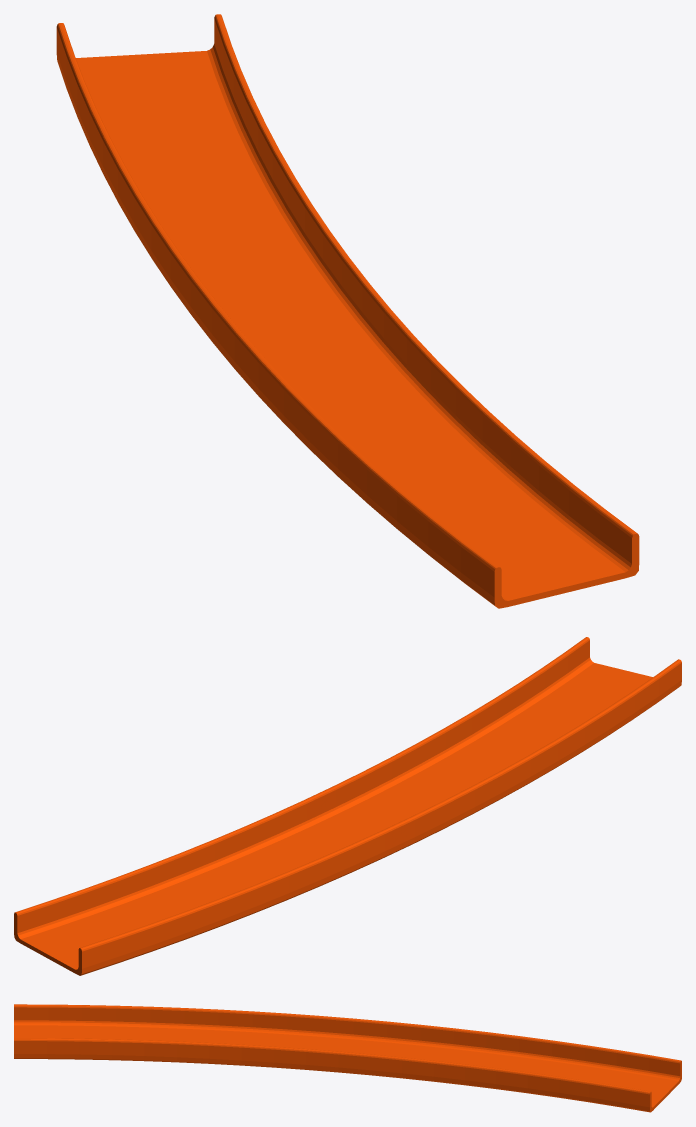
File: Curva curta 22,5.FBX
3 views of the same model, one above another, from view 1: azimuth 30°, elevation 25°; view 2: azimuth 150°, elevation 25°; view 3: azimuth 270°, elevation 25° (orthographic). The views are drawn at different scales.
Visible parts, largest first — view 1: Curva curta 22.5; view 2: Curva curta 22.5; view 3: Curva curta 22.5.
Boxes of the visible parts, box(x1,y1,x2,y2) form: Curva curta 22.5: box(56, 14, 639, 608); Curva curta 22.5: box(14, 637, 681, 975); Curva curta 22.5: box(14, 1004, 681, 1112).
Size of the model in its own units: 628 by 69.33 by 1997.
